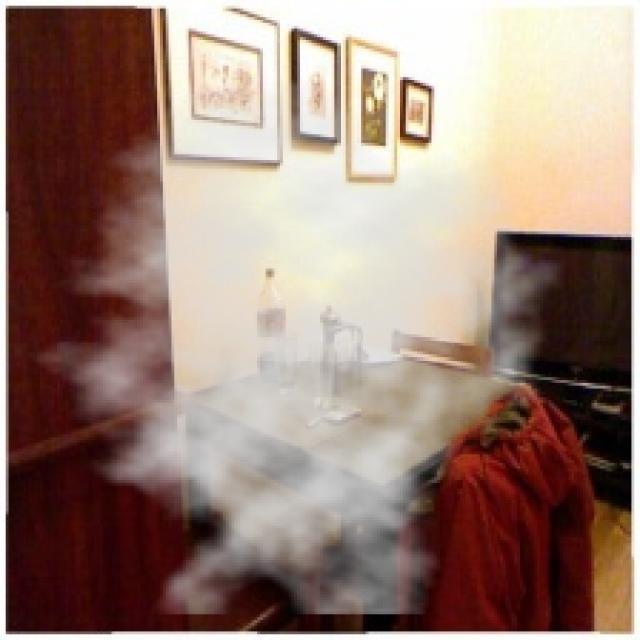Smoke: (8, 77, 566, 614)
